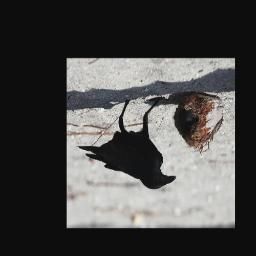Crow: (76, 95, 177, 190)
